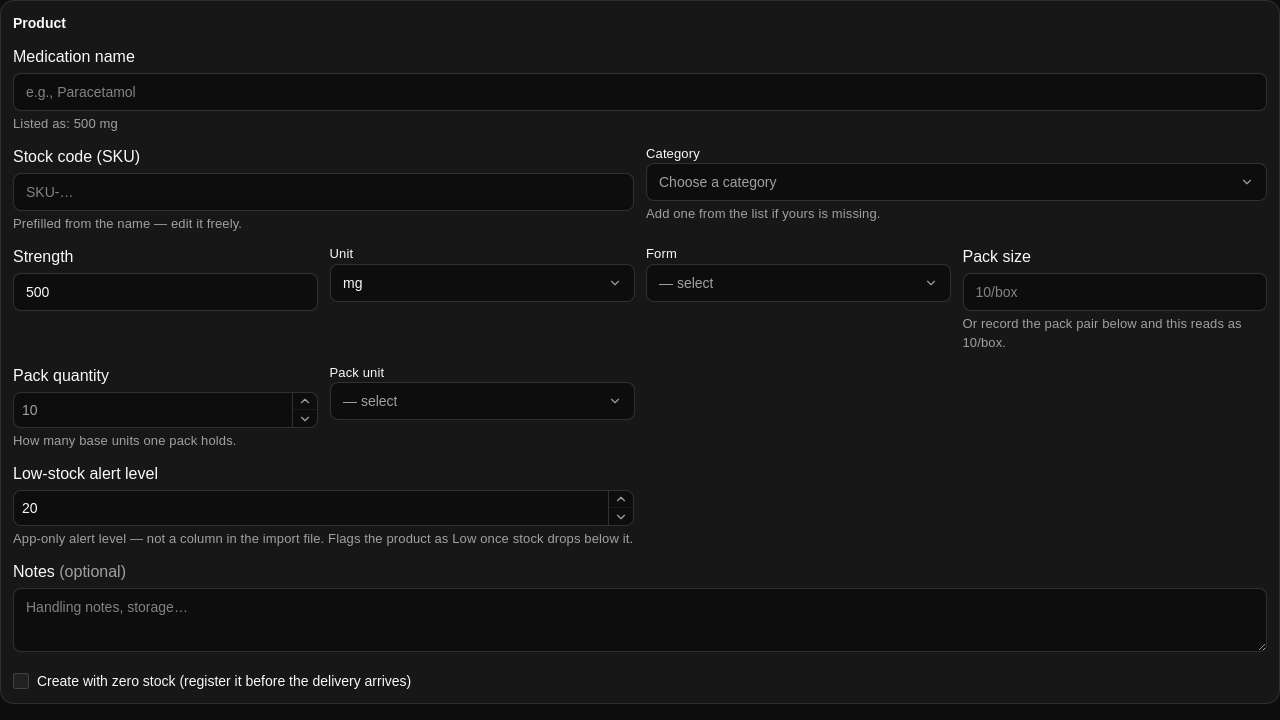
NewProductForm › prefills the SKU from the name and dosage until the operator edits it
Step 1. Type "Paracetamol" into the field labelled "Medication name Listed as: 500 mg" → coordinates (640, 92), box [13,73,1267,111]
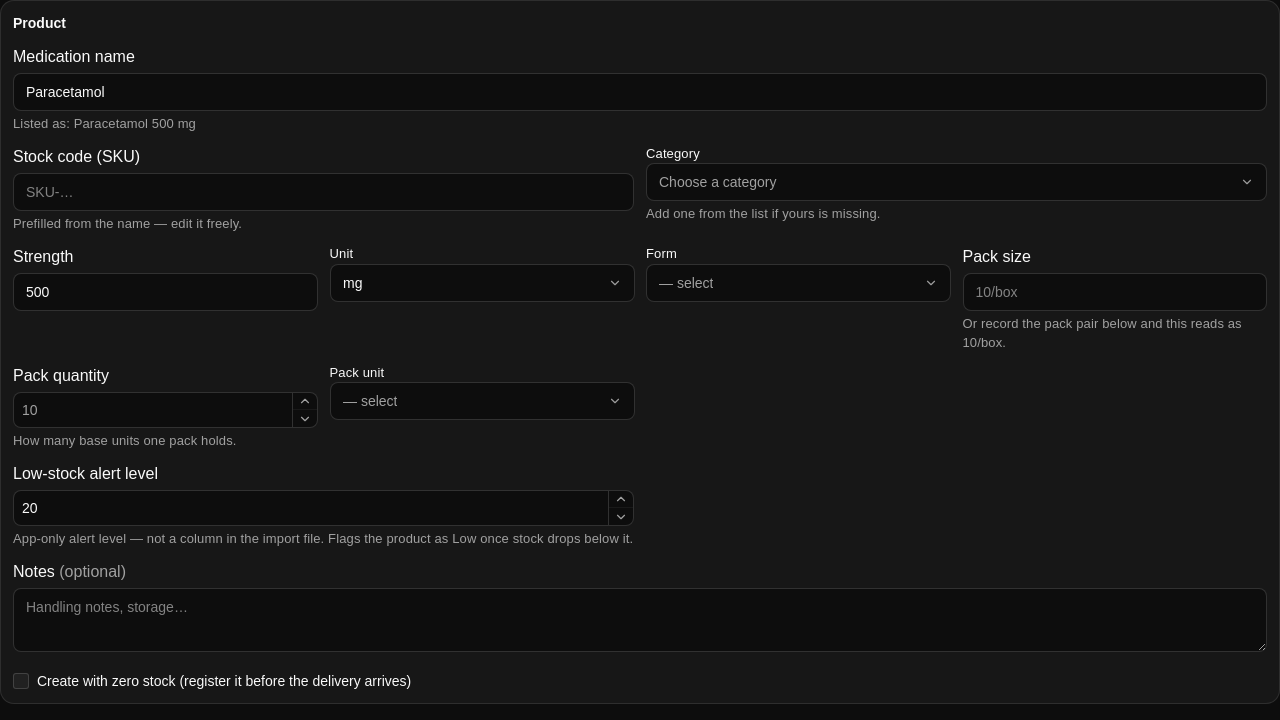
Step 2. Leave the field labelled "Medication name Listed as: Paracetamol 500 mg", box [13,73,1267,111]
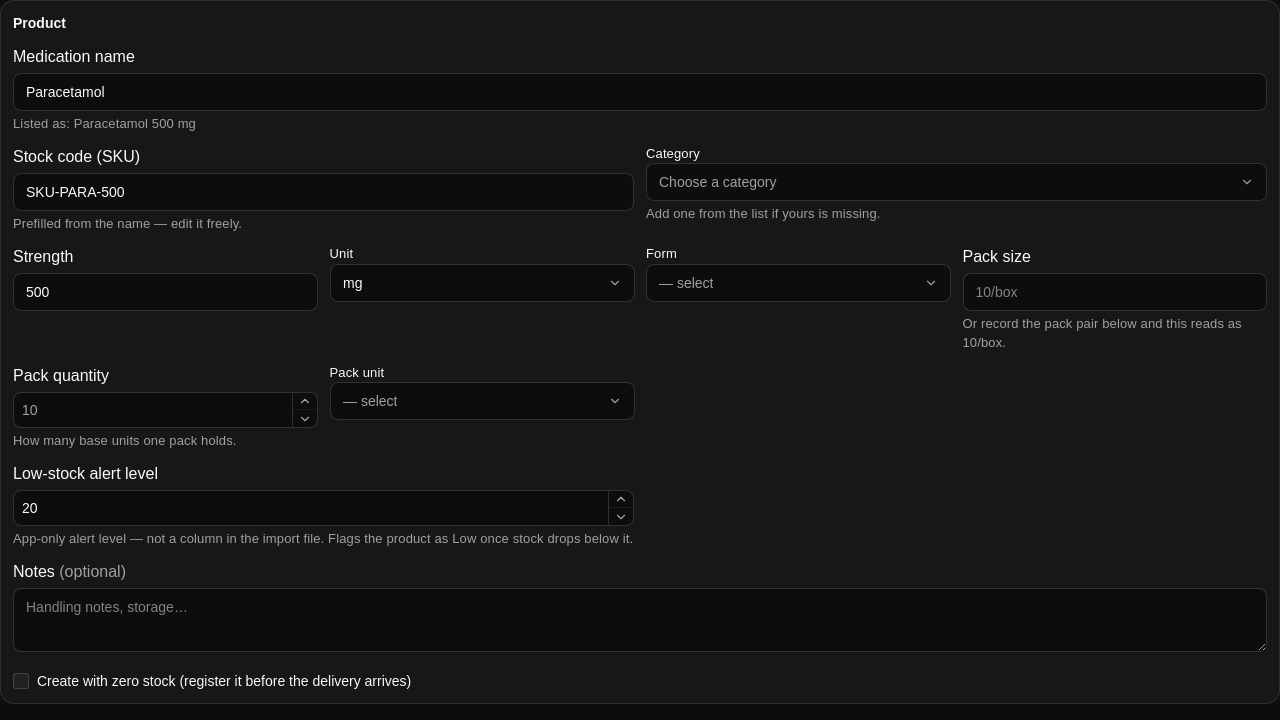
Check: the field labelled "Stock code (SKU) Prefilled from the name — edit it freely." holds "SKU-PARA-500", box [13,173,634,211]
